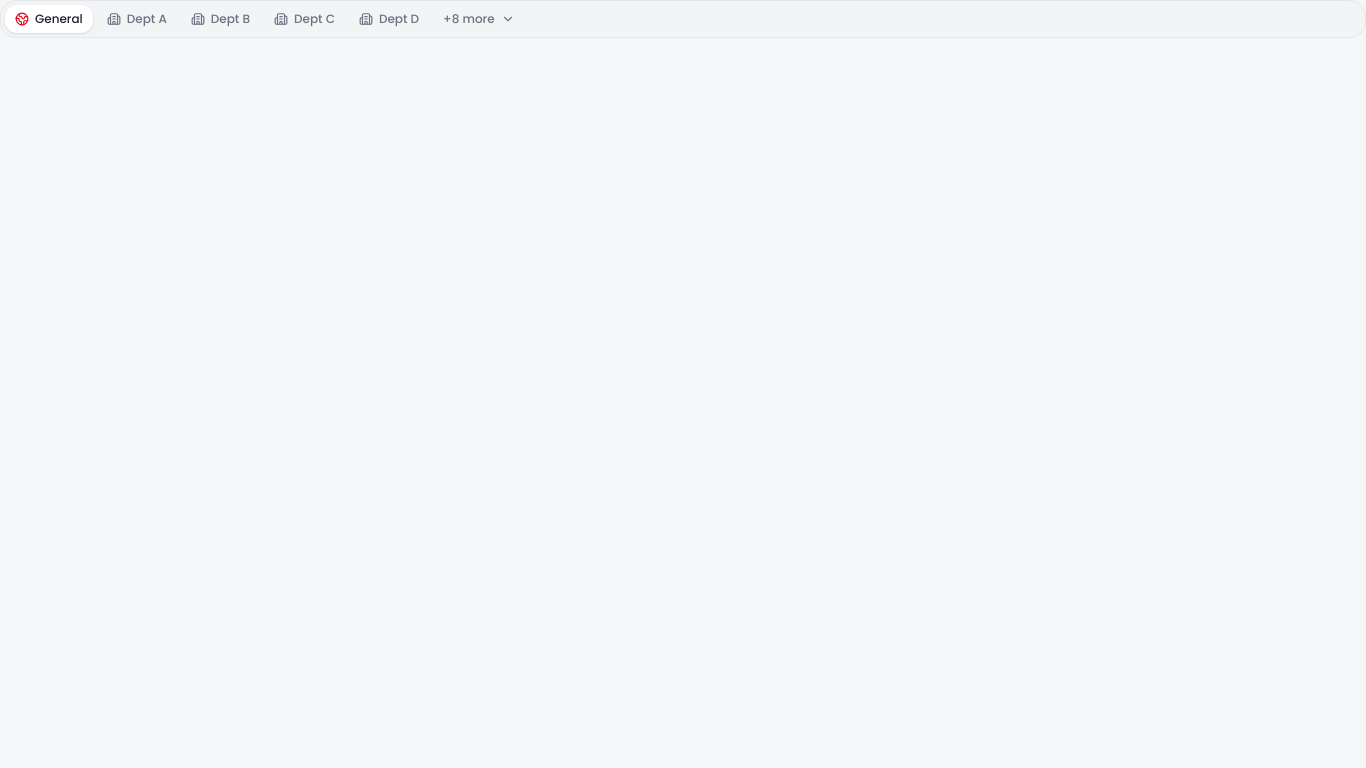
Scenario: DepartmentBar › opens the searchable list from the overflow control
The width and height of the screenshot is (1366, 768).
Click the button "+8 more" at (479, 19), box [433,5,525,33]
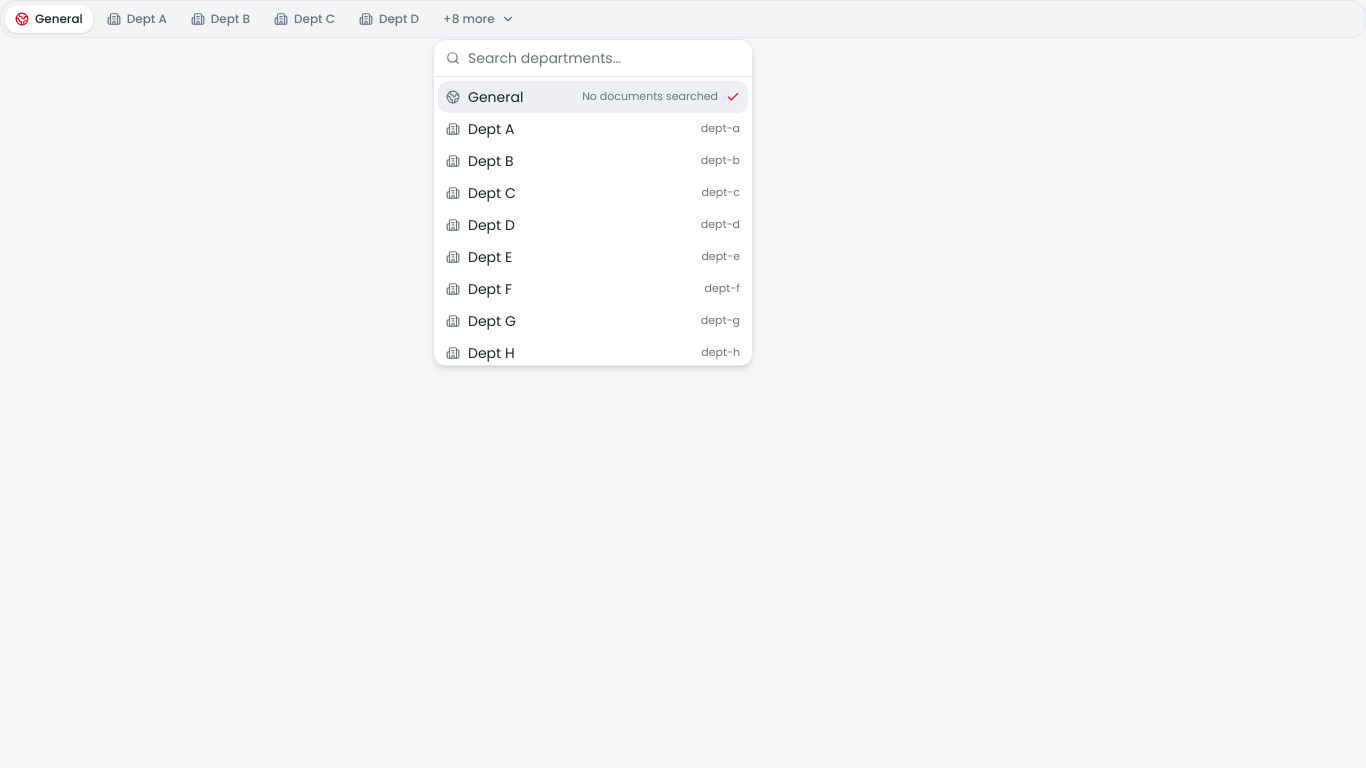
Expected: the search field labelled "Search departments…" is shown, [468,40,740,76]
